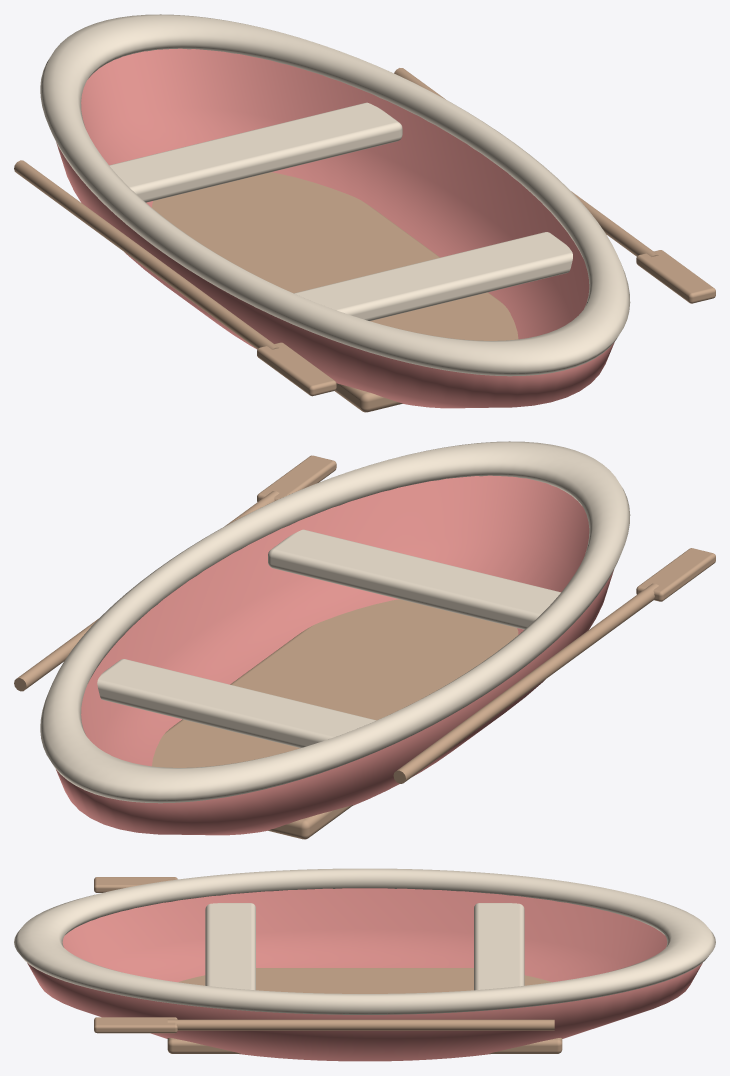
Rendered from boatRose.glb.
3 views of the same model, one above another, from view 1: azimuth 30°, elevation 25°; view 2: azimuth 150°, elevation 25°; view 3: azimuth 270°, elevation 25° (orthographic). The views are drawn at different scales.
Parts seen in each view (by area): view 1: hollow hull, rounded rim, recessed cockpit floor, seat bench (×2), oar shaft (×2), oar blade (×2); view 2: hollow hull, rounded rim, recessed cockpit floor, seat bench (×2), oar shaft (×2), oar blade (×2); view 3: hollow hull, rounded rim, seat bench (×2), recessed cockpit floor, oar shaft, oar blade (×2).
Part boxes in pixels (bbox=[...]): hollow hull: bbox=[56, 48, 614, 408]; rounded rim: bbox=[40, 14, 630, 376]; recessed cockpit floor: bbox=[152, 172, 518, 412]; seat bench (×2): bbox=[109, 102, 572, 320]; oar shaft (×2): bbox=[14, 68, 658, 349]; oar blade (×2): bbox=[257, 250, 715, 396]; hollow hull: bbox=[56, 475, 613, 835]; rounded rim: bbox=[40, 441, 630, 803]; recessed cockpit floor: bbox=[152, 599, 518, 839]; seat bench (×2): bbox=[97, 529, 560, 747]; oar shaft (×2): bbox=[14, 491, 658, 783]; oar blade (×2): bbox=[257, 455, 715, 601]; hollow hull: bbox=[27, 888, 702, 1061]; rounded rim: bbox=[14, 868, 715, 1014]; seat bench (×2): bbox=[205, 903, 524, 990]; recessed cockpit floor: bbox=[167, 968, 562, 1053]; oar shaft: bbox=[167, 1019, 554, 1030]; oar blade (×2): bbox=[94, 877, 177, 1033].
Size of the model in its own units: 2.25 by 0.7466 by 4.44.
